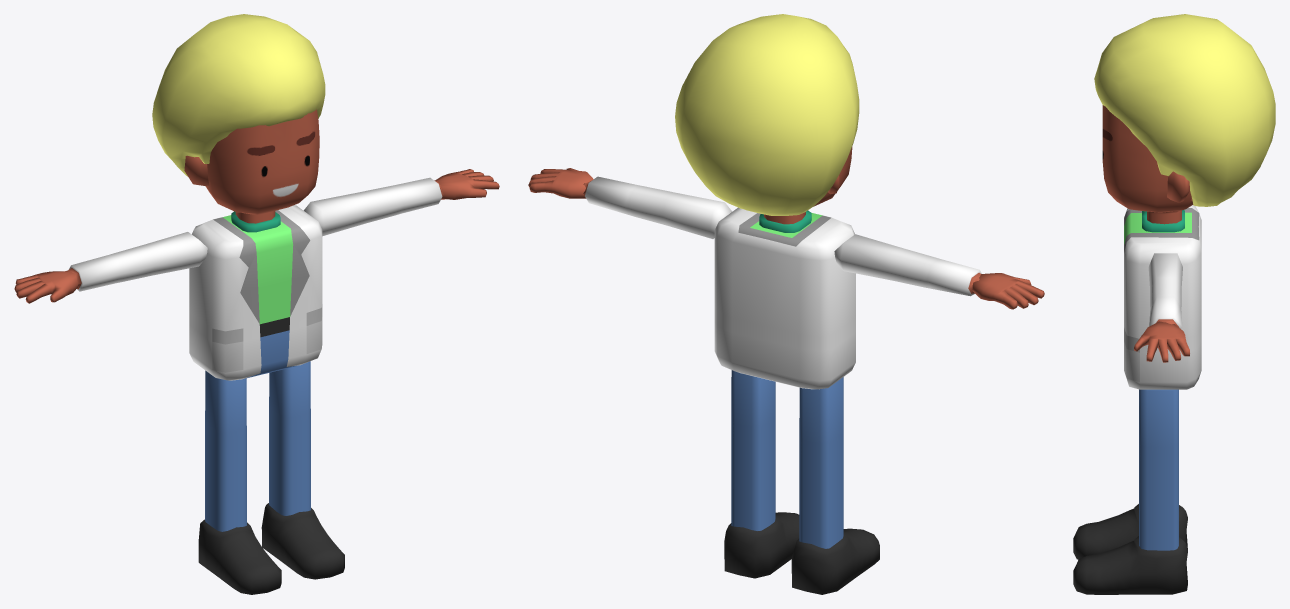
Rendered from NPC_Black01_BlondeHair01.gltf.
3 renders of one model, left to right at view 1: azimuth 30°, elevation 25°; view 2: azimuth 150°, elevation 25°; view 3: azimuth 270°, elevation 25°, orthographic. The views are drawn at different scales.
Visible parts, largest first — view 1: NPC_Corpo_Black1_BlondeHair.001; view 2: NPC_Corpo_Black1_BlondeHair.001; view 3: NPC_Corpo_Black1_BlondeHair.001.
Part boxes in pixels (left/top/right/bottom): NPC_Corpo_Black1_BlondeHair.001: left=14, top=14, right=499, bottom=594; NPC_Corpo_Black1_BlondeHair.001: left=528, top=14, right=1044, bottom=594; NPC_Corpo_Black1_BlondeHair.001: left=1073, top=14, right=1275, bottom=594.
Bounding box in the file's own units: 2.31 × 2.41 × 0.8168.
Materials: 1 (1 with a texture image).
